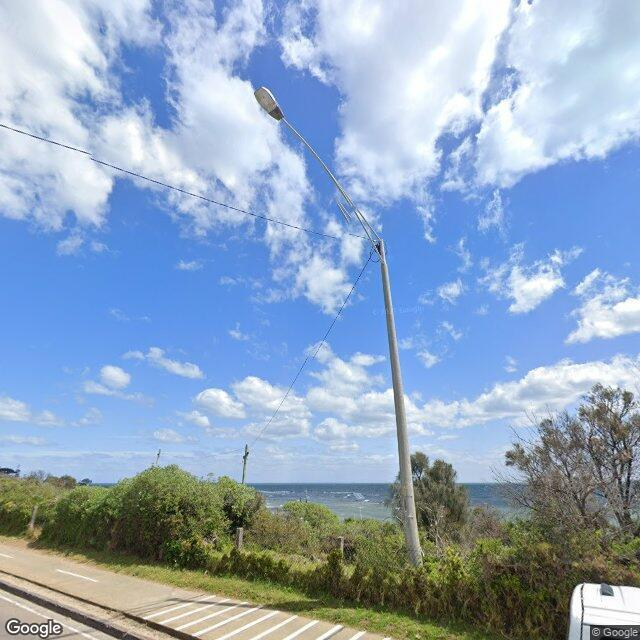steel-pole: (382, 247, 424, 571), (242, 444, 248, 485)
streetlight: (252, 87, 383, 260)
